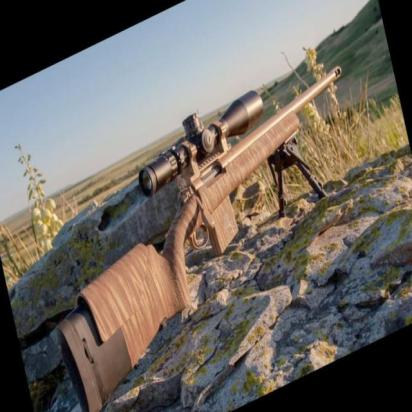Gun: (24, 50, 389, 412)
